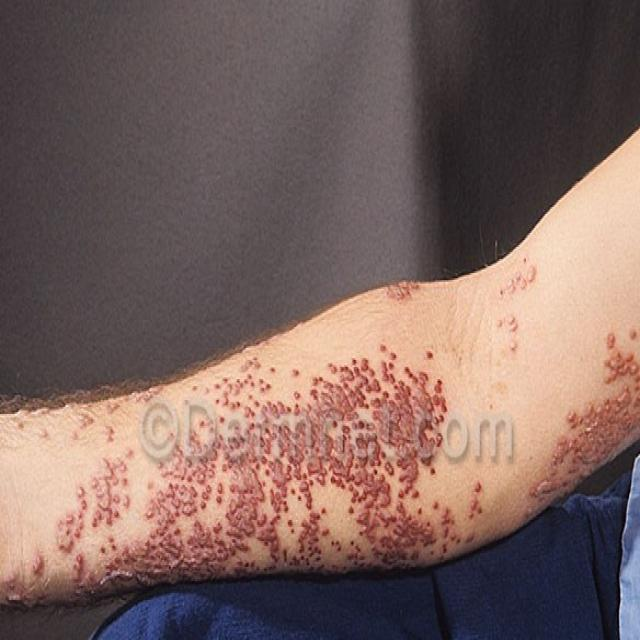Viral Infections: (4, 435, 455, 581), (199, 372, 455, 430), (535, 343, 640, 433), (491, 260, 547, 340), (467, 465, 502, 544), (381, 275, 442, 316)
